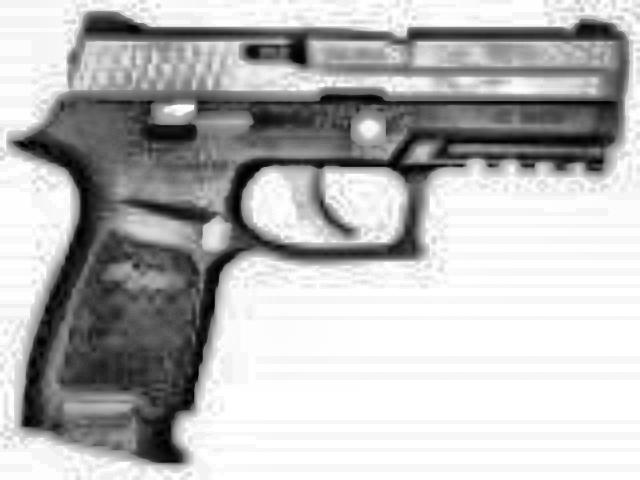pistol: (4, 8, 616, 444)
